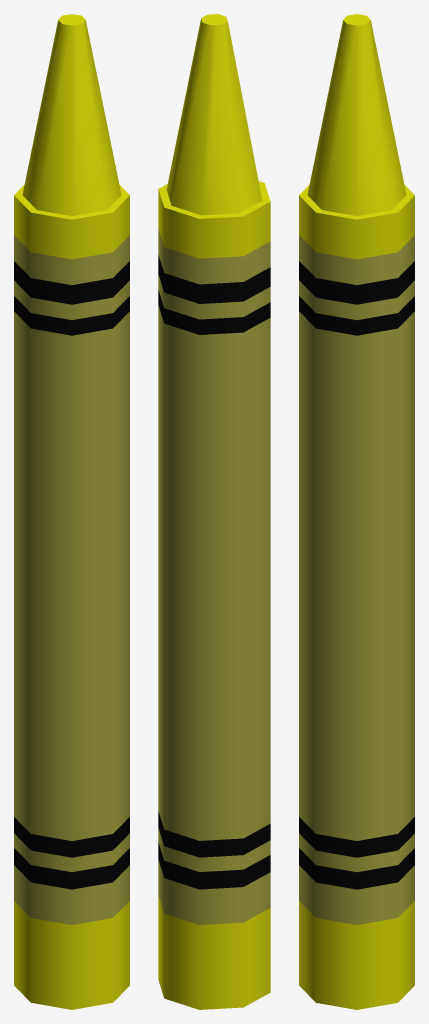
Rendered from CrayonYellow.fbx.
3 renders of one model, left to right at view 1: azimuth 90°, elevation 25°; view 2: azimuth 210°, elevation 25°; view 3: azimuth 270°, elevation 25°, orthographic.
Visible parts, largest first — view 1: pasted__pCylinder1; view 2: pasted__pCylinder1; view 3: pasted__pCylinder1.
Boxes of the visible parts, bbox=[...] form: pasted__pCylinder1: bbox=[14, 14, 129, 1009]; pasted__pCylinder1: bbox=[158, 14, 270, 1009]; pasted__pCylinder1: bbox=[299, 14, 414, 1009].
Bounding box in the file's own units: 1.37 × 12.55 × 1.37.
